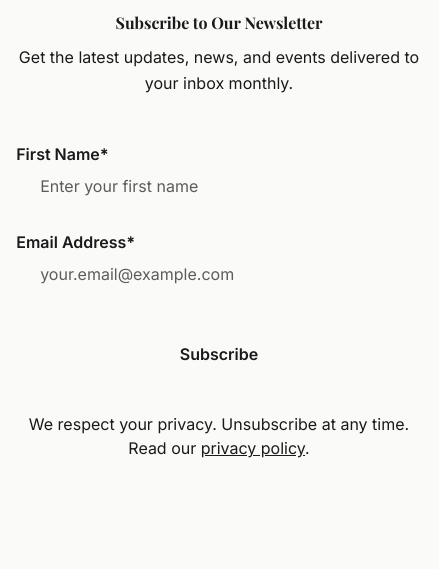
NewsletterSignup › Validation › shows error when email is invalid
Type "John" into the field labelled "First Name *".
click(219, 186); type("John")  # box [16,164,422,208]
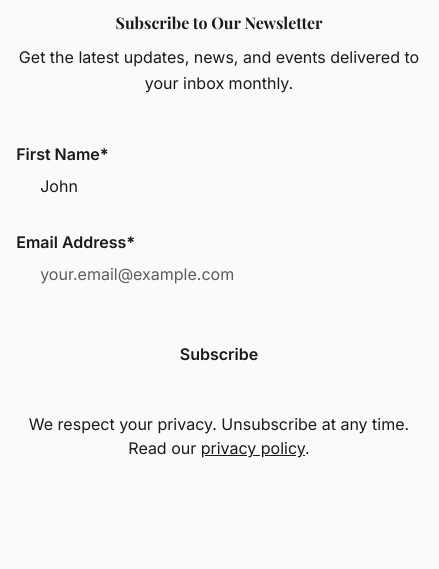
Type "not-an-email" into the field labelled "Email Address *".
click(219, 274); type("not-an-email")  # box [16,252,422,296]
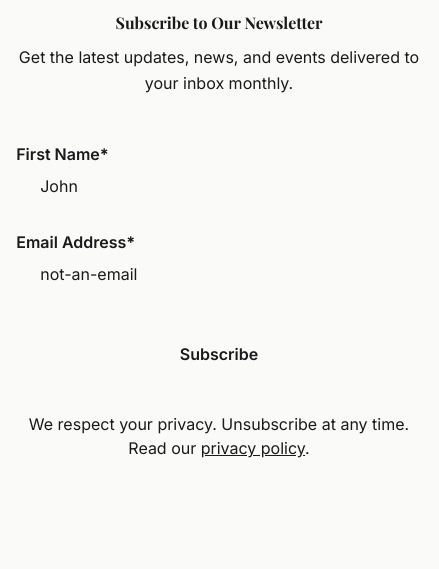
Click the button "Subscribe".
click(219, 354)  # box [16,320,422,388]
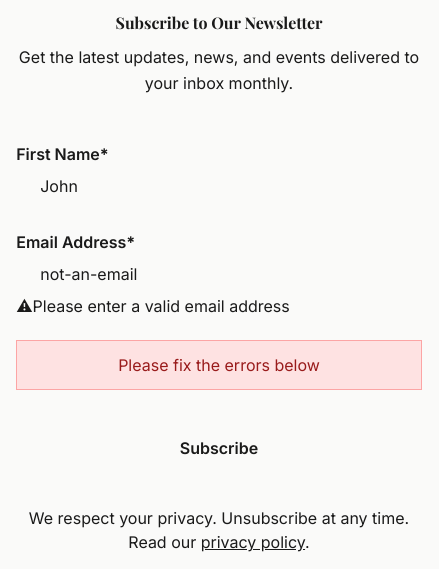
expect the text "Please enter a valid email address" is shown: met, box [33,296,290,316]
